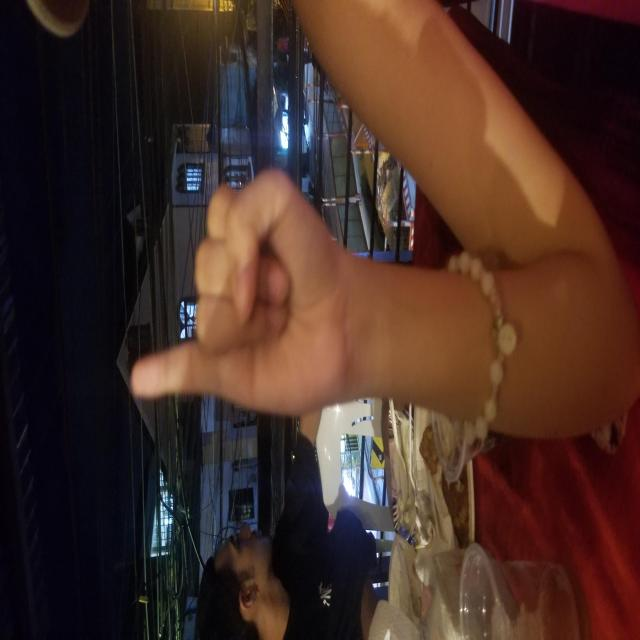I: (222, 130, 476, 339)
